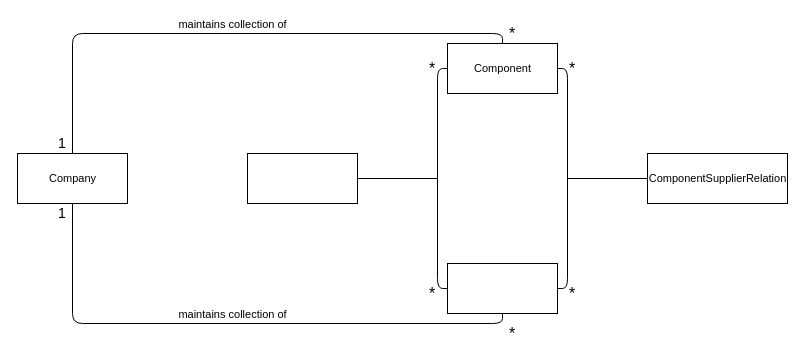
This 805x360 diagram has some shape labels left out. Each missing label, with the centre of its shape:
Order: the point at 302,178
Supplier: the point at 502,288
